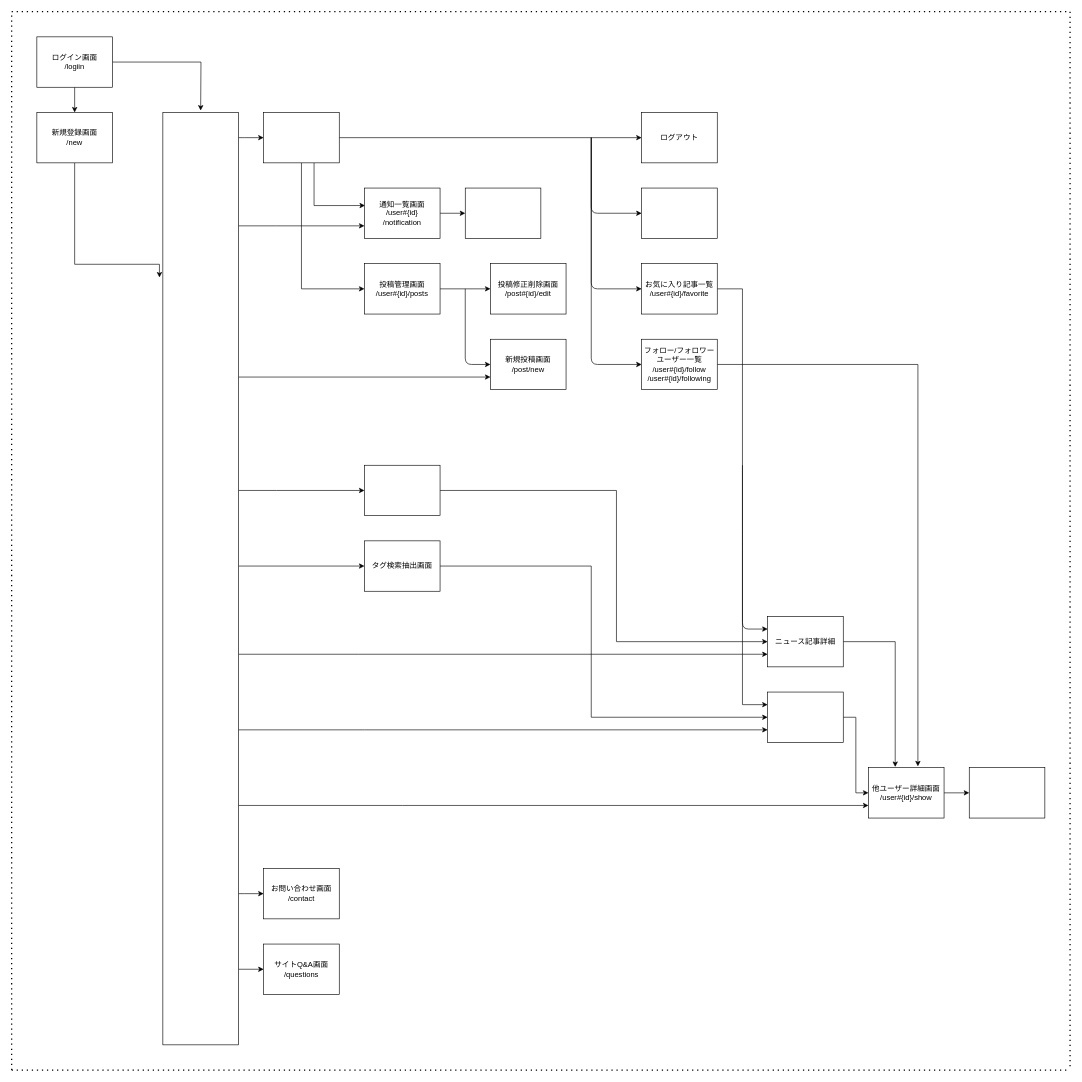
This 1082x1082 diagram has some shape labels left out. Each missing label, with the centre of its shape:
"Q&A詳細 /post#{id}/show" goes at point (805, 716).
"TOP /" goes at point (200, 578).
"キーワード検索抽出画面" goes at point (402, 490).
"マイページ /user#{id}" goes at point (301, 137).
"ユーザー間の ダイレクト メッセージ画面 /user#{id}/dm" goes at point (1007, 792).
"個人情報変更画面 /user#{id}/edit" goes at point (679, 212).
"通知詳細確認" goes at point (503, 212).
